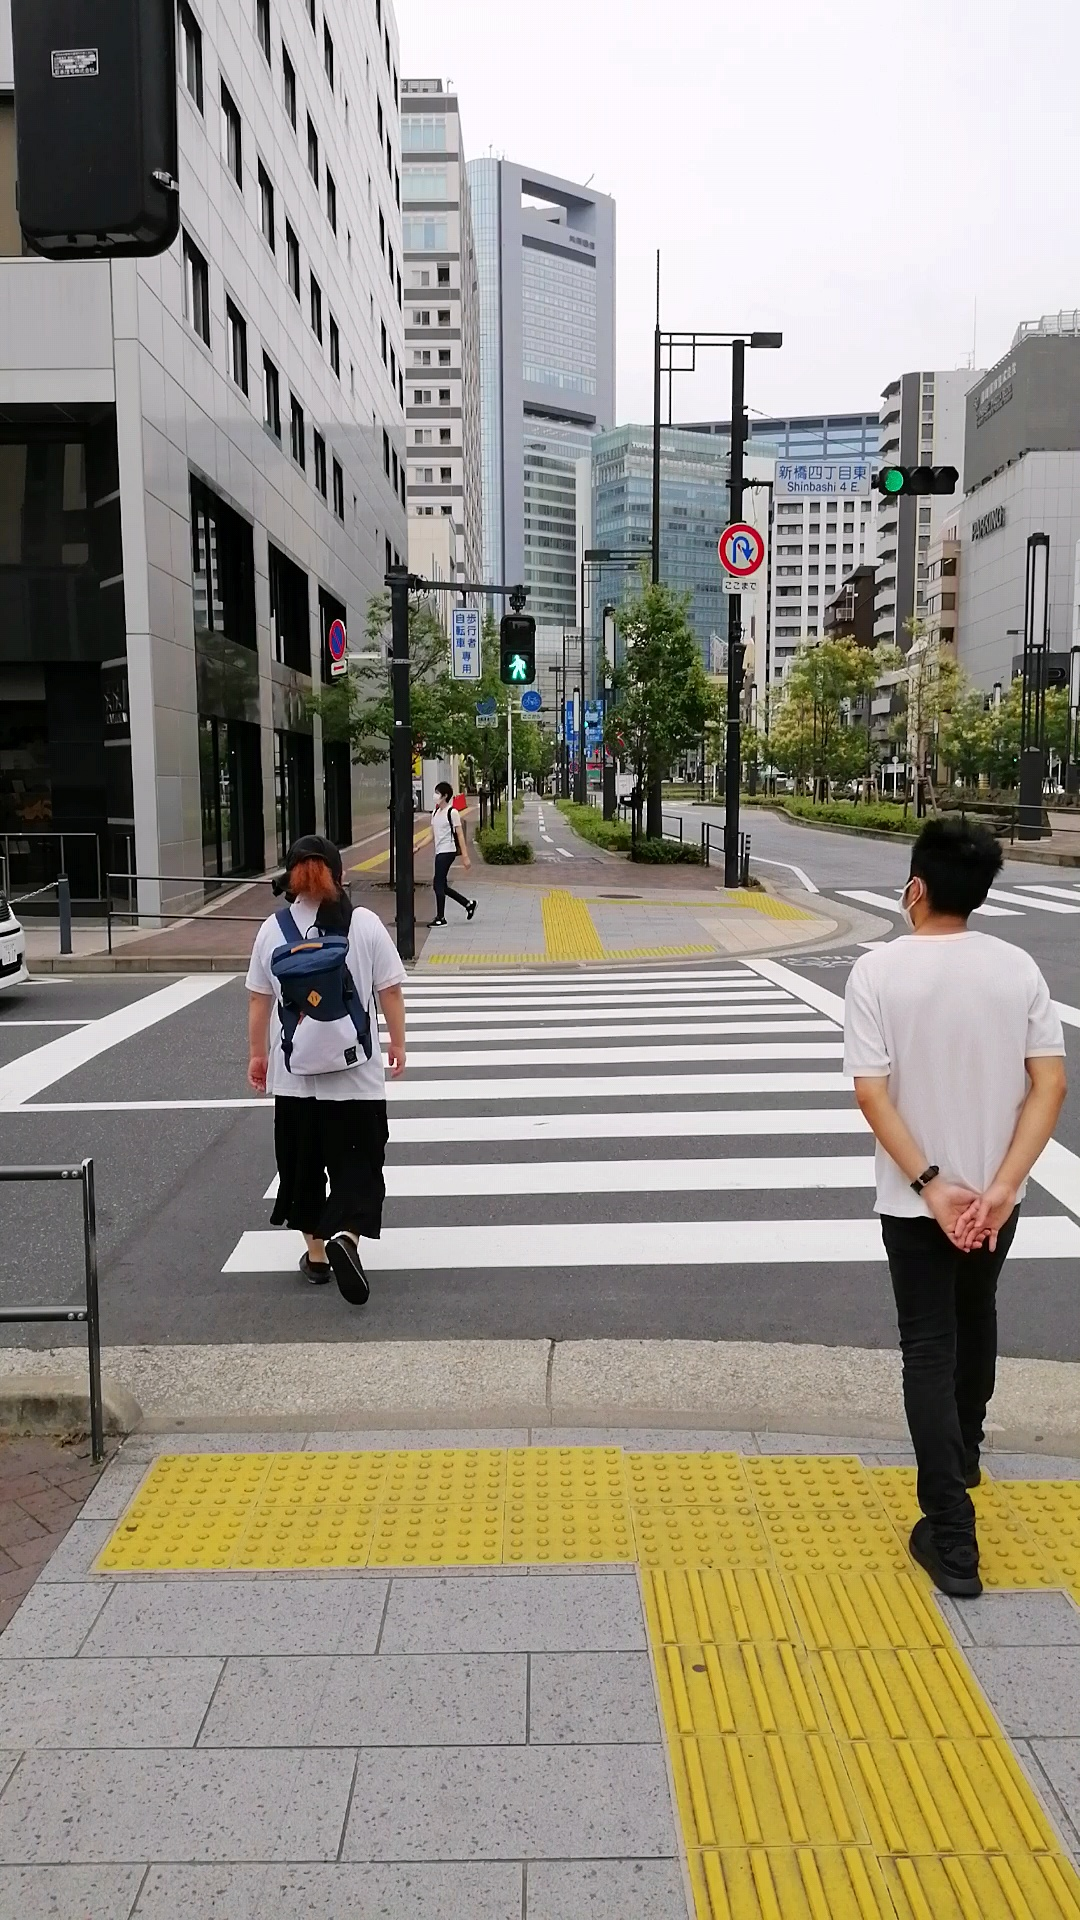green: (500, 615, 537, 683)
